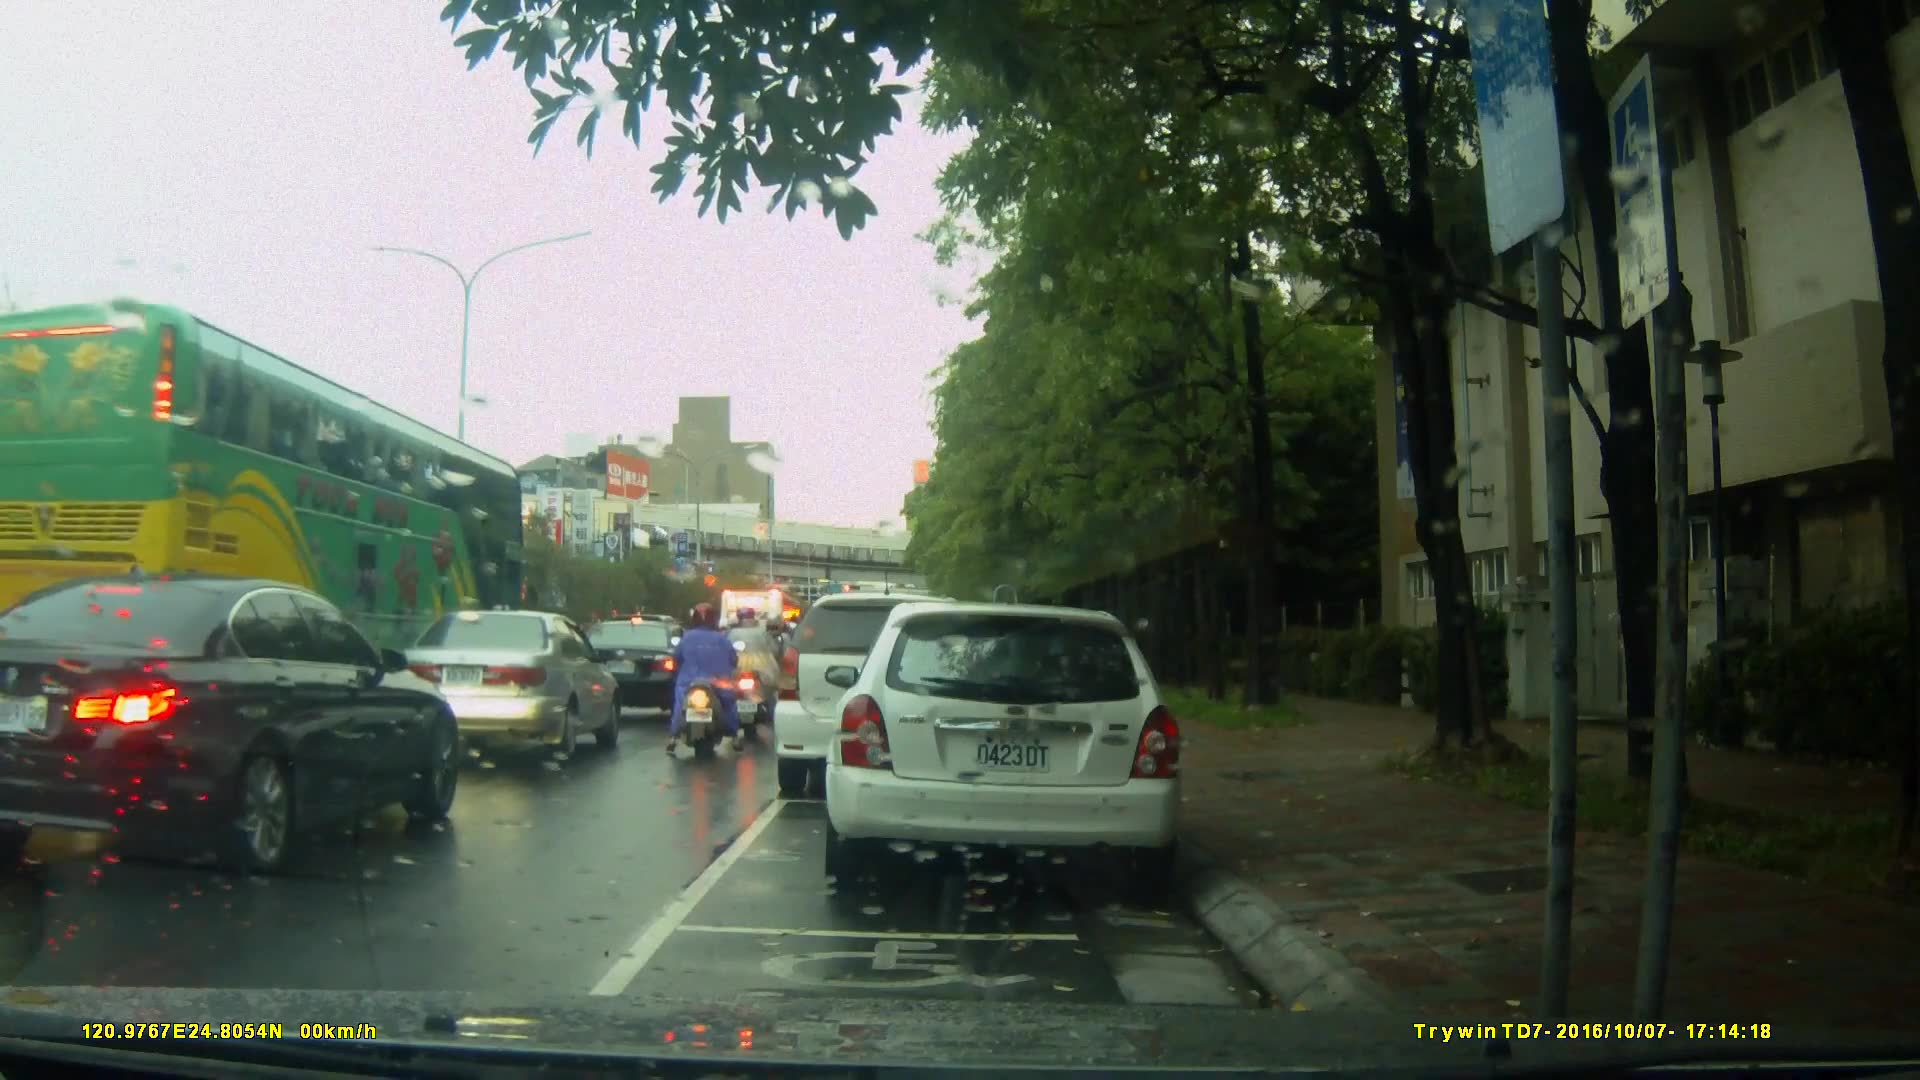rider: (666, 605, 732, 759), (735, 603, 788, 727)
vehicle: (1, 296, 533, 653), (9, 575, 465, 884), (831, 592, 1196, 897), (771, 592, 999, 797), (390, 610, 622, 771), (568, 619, 691, 722), (719, 586, 802, 706)
